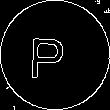P_N: (36, 29, 74, 81)
